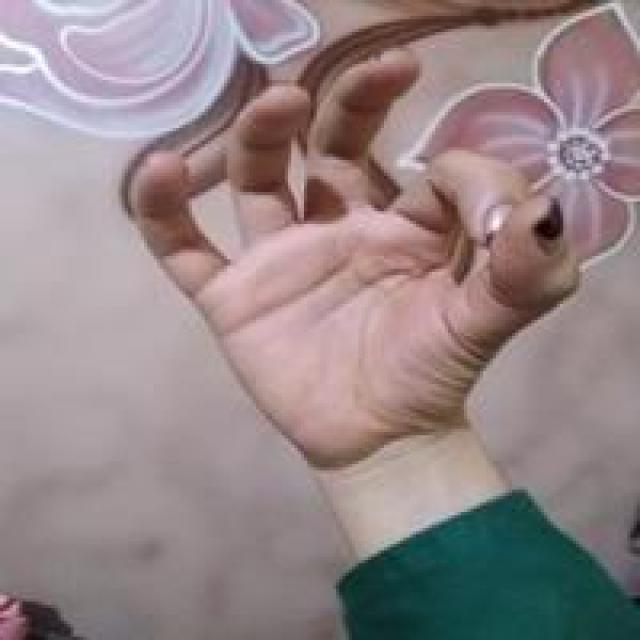F: (127, 45, 588, 467)
